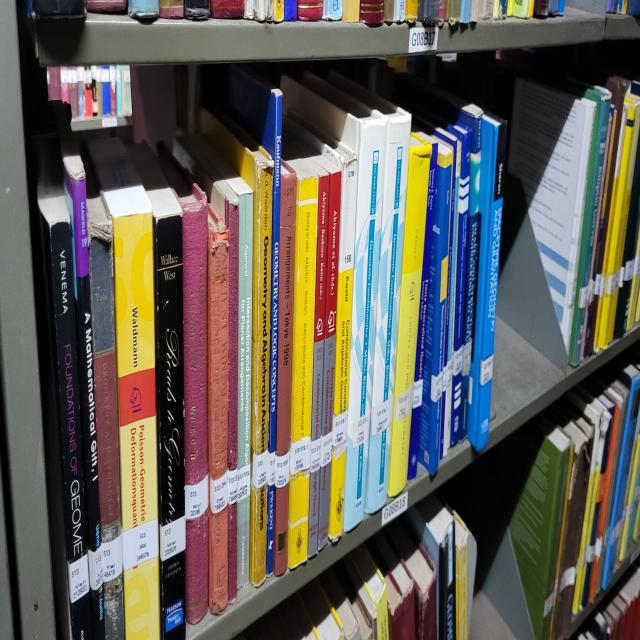Book: (92, 143, 160, 639), (131, 143, 186, 639), (349, 84, 411, 514), (39, 184, 91, 639), (160, 149, 209, 625), (62, 141, 105, 639), (85, 162, 125, 639), (344, 111, 386, 530), (235, 146, 274, 587), (388, 138, 431, 498), (468, 114, 506, 452), (289, 162, 319, 568), (419, 141, 454, 473), (329, 143, 358, 541), (408, 133, 439, 479), (450, 106, 480, 444), (274, 165, 296, 576), (230, 179, 252, 587), (318, 160, 341, 549), (208, 203, 229, 614), (309, 162, 329, 557), (460, 103, 482, 438), (440, 135, 461, 457), (225, 200, 239, 603), (266, 279, 279, 574)
Label: (122, 519, 159, 571), (159, 514, 185, 560), (185, 473, 209, 519), (68, 555, 90, 603), (101, 536, 122, 582), (290, 436, 311, 476), (210, 471, 228, 514), (394, 384, 414, 422), (371, 400, 391, 436), (252, 449, 269, 490), (88, 547, 104, 590), (332, 409, 348, 446), (275, 452, 290, 490), (352, 417, 368, 446), (238, 463, 250, 501), (320, 433, 332, 468), (480, 354, 494, 384), (310, 438, 321, 473), (228, 468, 238, 506), (412, 379, 424, 409), (431, 371, 442, 403), (461, 341, 471, 376), (442, 360, 452, 392), (452, 346, 462, 376), (268, 452, 276, 487)
